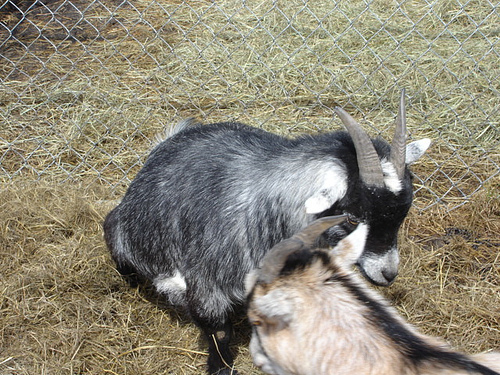goat: (102, 88, 433, 375), (247, 213, 498, 375)
